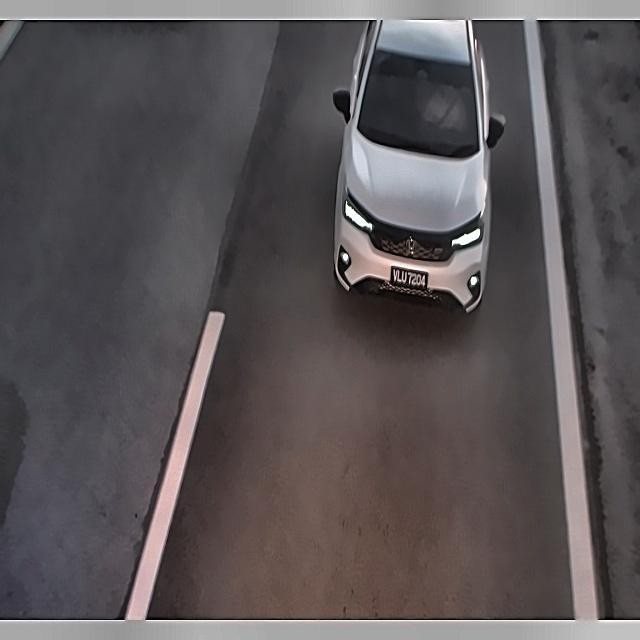car: (386, 256, 434, 299)
